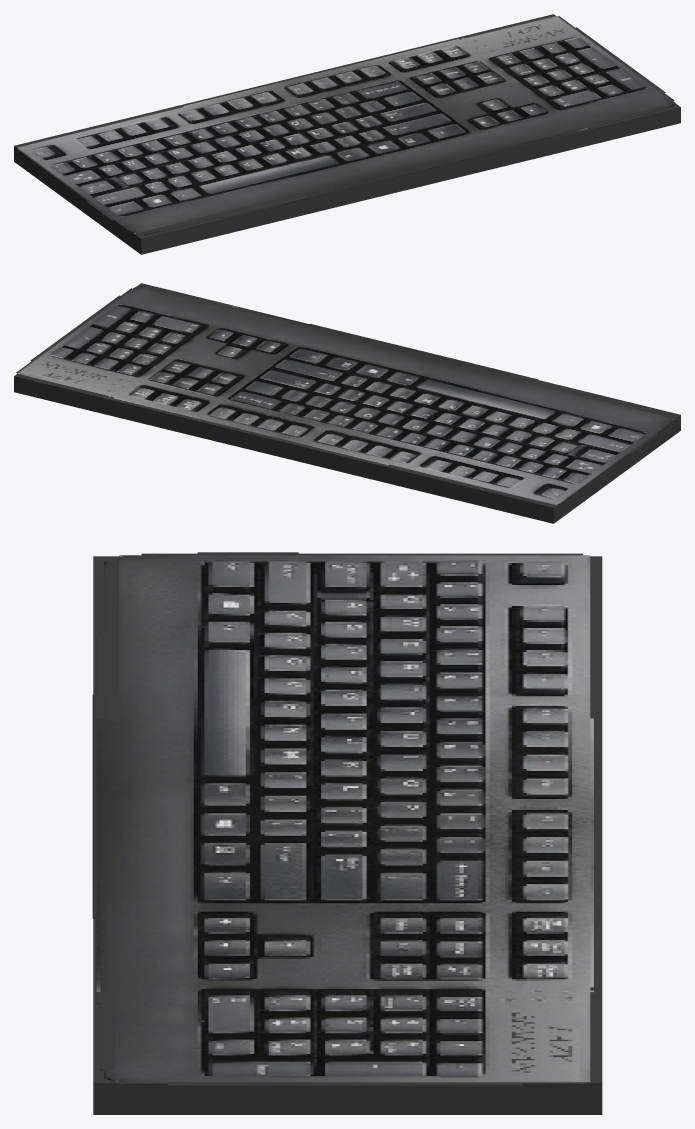
File: keyboard.fbx
3 views of the same model, one above another, from view 1: azimuth 30°, elevation 25°; view 2: azimuth 150°, elevation 25°; view 3: azimuth 270°, elevation 25° (orthographic). The views are drawn at different scales.
Visible parts, largest first — view 1: ccccccc_0, ccccccc_2, group, ccccccc_4, ccccccc_3, ccccccc_19, ccccccc_9; view 2: ccccccc_0, ccccccc_2, group, ccccccc_4, ccccccc_3, ccccccc_9; view 3: ccccccc_0, ccccccc_2, ccccccc_4, group, ccccccc_3, ccccccc_6, ccccccc_9, ccccccc_19, ccccccc_7, ccccccc_5, ccccccc_11, ccccccc_1.
Boxes of the visible parts, <box> form: ccccccc_0: <box>183,39,582,196</box>; ccccccc_2: <box>17,107,301,233</box>; group: <box>14,14,680,254</box>; ccccccc_4: <box>465,16,674,125</box>; ccccccc_3: <box>460,38,586,130</box>; ccccccc_19: <box>283,147,512,203</box>; ccccccc_9: <box>136,193,303,235</box>; ccccccc_0: <box>113,307,512,465</box>; ccccccc_2: <box>390,378,674,505</box>; group: <box>14,283,680,523</box>; ccccccc_4: <box>17,287,227,396</box>; ccccccc_3: <box>111,306,236,397</box>; ccccccc_9: <box>508,377,674,418</box>; ccccccc_0: <box>96,718,594,988</box>; ccccccc_2: <box>119,555,590,718</box>; ccccccc_4: <box>115,992,590,1083</box>; group: <box>93,556,602,1114</box>; ccccccc_3: <box>96,987,590,990</box>; ccccccc_6: <box>141,553,582,555</box>; ccccccc_9: <box>111,557,118,718</box>; ccccccc_19: <box>92,694,96,918</box>; ccccccc_7: <box>167,1084,523,1086</box>; ccccccc_5: <box>126,1082,586,1084</box>; ccccccc_11: <box>100,1003,114,1070</box>; ccccccc_1: <box>96,990,594,992</box>.
Size of the model in its own units: 180 by 5.13 by 72.58.
2 materials, 2 textured.
